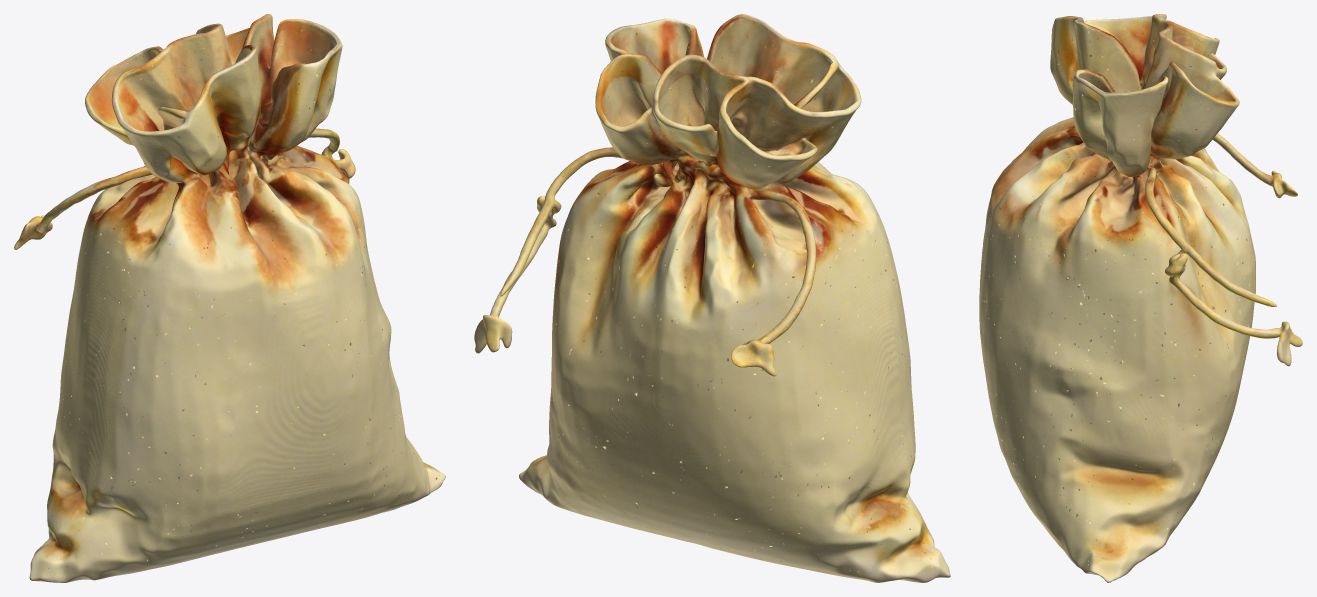
The model's file is saco.glb.
3 renders of one model, left to right at view 1: azimuth 30°, elevation 25°; view 2: azimuth 150°, elevation 25°; view 3: azimuth 270°, elevation 25°, orthographic. The views are drawn at different scales.
Size of the model in its own units: 1.77 by 2 by 1.25.
Materials: 1 (1 with a texture image).
